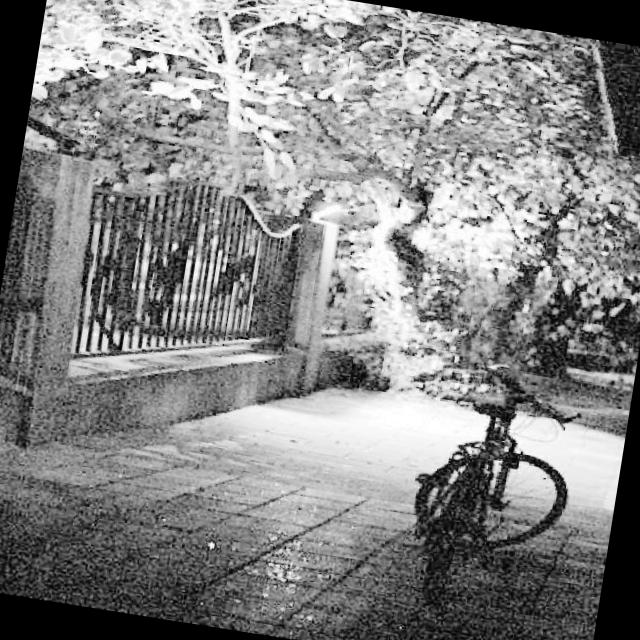Bicycle: (370, 348, 596, 570)
